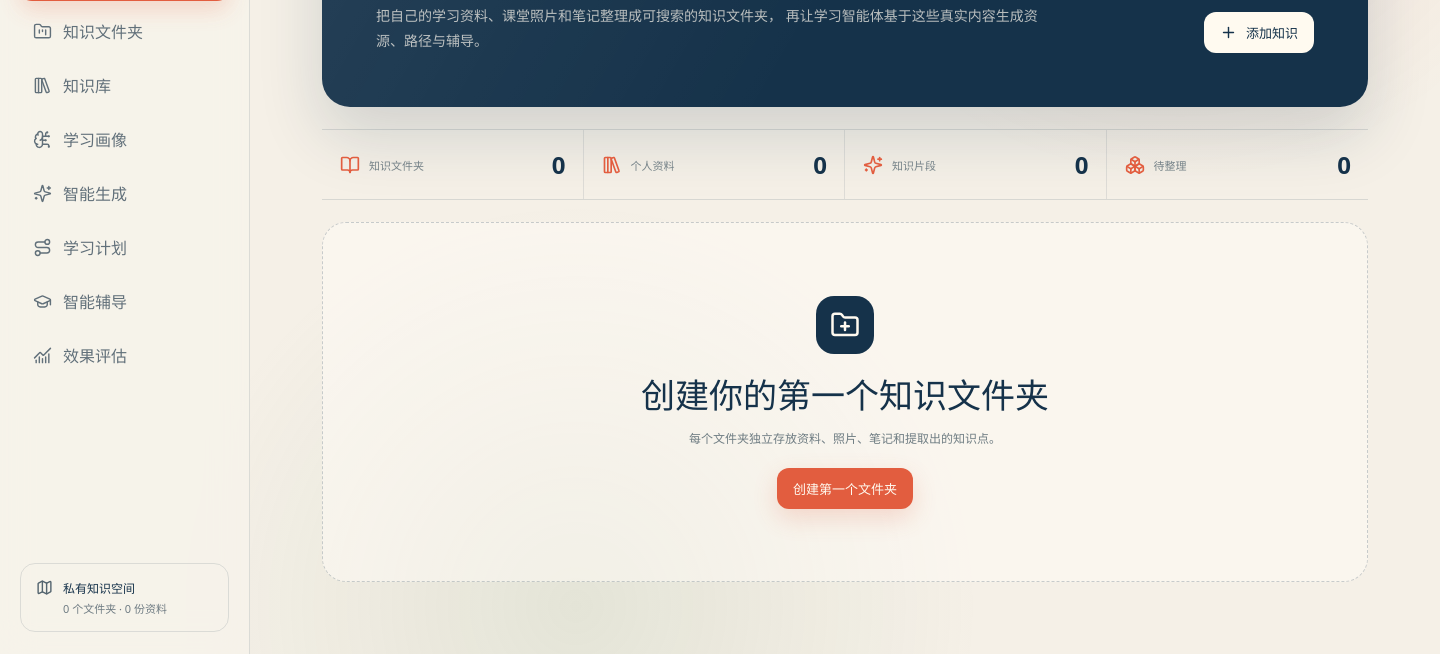
Scenario: empty dashboard create action opens the course form directly
This screenshot has width=1440, height=654.
(page scrolled)
Click the button "创建第一个文件夹": (845, 489) [777,468,913,509]
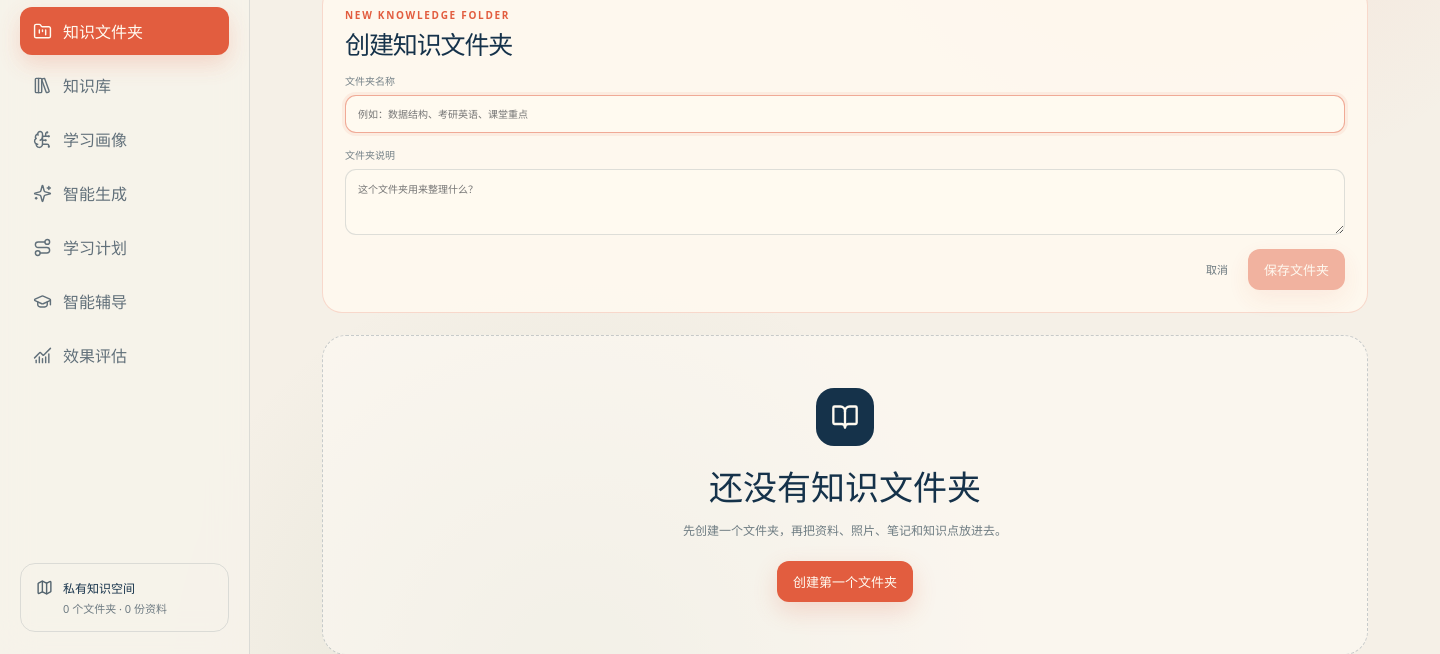
Expected: the heading "创建知识文件夹" is shown, [345,31,512,59]
Expected: the field with placeholder "例如：数据结构、考研英语、课堂重点" is shown, [345,95,1345,133]
